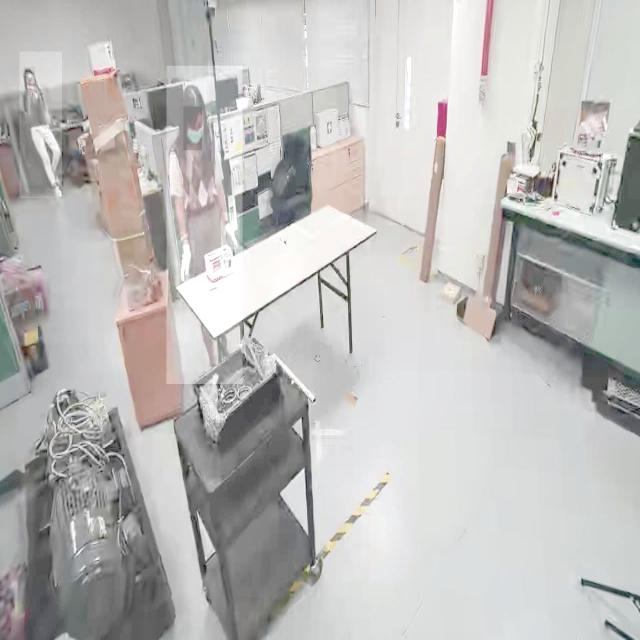face_mask: (184, 107, 202, 150)
hand_glove: (175, 240, 195, 285), (220, 212, 240, 250)
head_nohelmet: (183, 82, 207, 106), (23, 66, 35, 76)
person: (166, 66, 242, 385), (19, 52, 62, 199)
